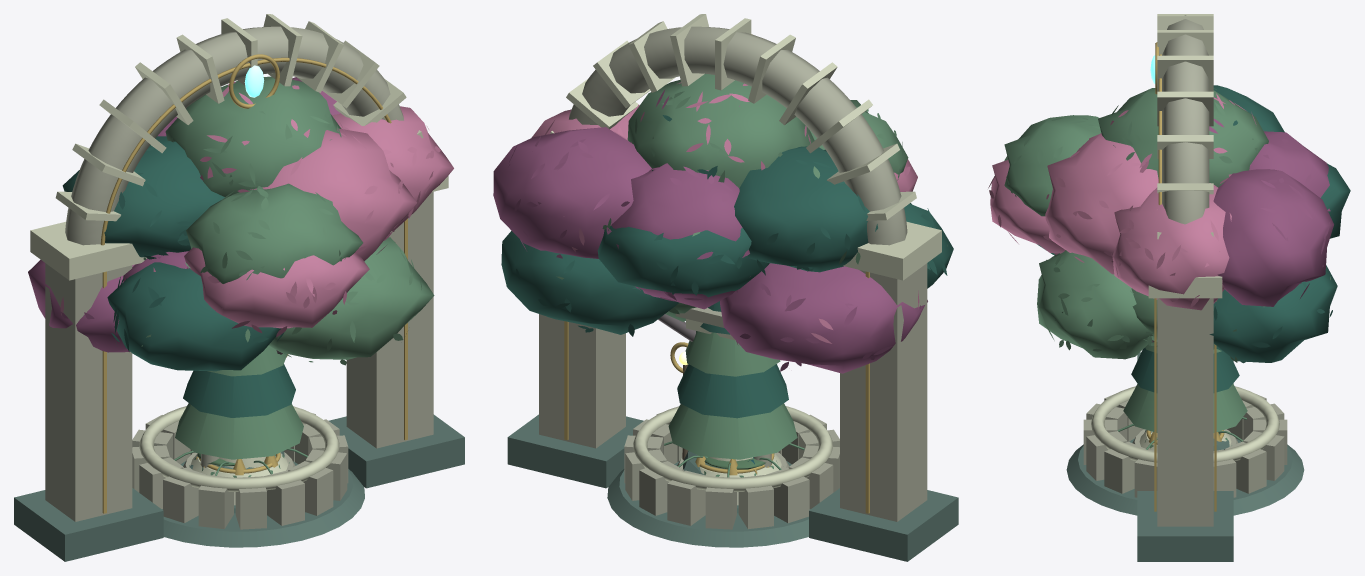
File: garden.glb
3 views of the same model, side by side, from view 1: azimuth 30°, elevation 25°; view 2: azimuth 150°, elevation 25°; view 3: azimuth 270°, elevation 25° (orthographic). The views are drawn at different scales.
Visible parts, largest first — view 1: Warm limestone (×2), Sage foliage (×2), Jade foliage (×2), Lilac foliage, Carved pale stone (×3), Deep limestone (×2), Antique brass (×2), Mulberry foliage; view 2: Warm limestone (×3), Mulberry foliage, Jade foliage (×2), Sage foliage (×2), Deep limestone (×2), Carved pale stone (×2), Lilac foliage, Antique brass; view 3: Warm limestone (×2), Sage foliage (×2), Lilac foliage, Mulberry foliage, Jade foliage (×2), Deep limestone (×2), Carved pale stone (×2), Antique brass.
Boxes of the visible parts, bbox=[...] form: Warm limestone (×2): bbox=[45, 26, 433, 529]; Sage foliage (×2): bbox=[141, 76, 434, 459]; Jade foliage (×2): bbox=[62, 136, 295, 417]; Lilac foliage: bbox=[60, 81, 453, 337]; Carved pale stone (×3): bbox=[30, 14, 448, 491]; Deep limestone (×2): bbox=[14, 414, 464, 561]; Antique brass (×2): bbox=[100, 54, 407, 513]; Mulberry foliage: bbox=[28, 77, 340, 352]; Warm limestone (×3): bbox=[539, 26, 927, 529]; Mulberry foliage: bbox=[493, 89, 927, 373]; Jade foliage (×2): bbox=[501, 115, 953, 418]; Sage foliage (×2): bbox=[556, 73, 947, 459]; Deep limestone (×2): bbox=[507, 414, 958, 561]; Carved pale stone (×2): bbox=[550, 14, 941, 491]; Lilac foliage: bbox=[531, 82, 919, 343]; Antique brass: bbox=[564, 34, 869, 513]; Warm limestone (×2): bbox=[1083, 15, 1287, 526]; Sage foliage (×2): bbox=[1004, 88, 1330, 432]; Lilac foliage: bbox=[988, 93, 1256, 310]; Mulberry foliage: bbox=[1209, 119, 1333, 306]; Jade foliage (×2): bbox=[1037, 85, 1350, 392]; Deep limestone (×2): bbox=[1066, 352, 1304, 561]; Carved pale stone (×2): bbox=[1091, 14, 1279, 462]; Antique brass: bbox=[1154, 42, 1216, 511].
Bounding box in the file's own units: 7.7 × 8.9 × 6.42.
